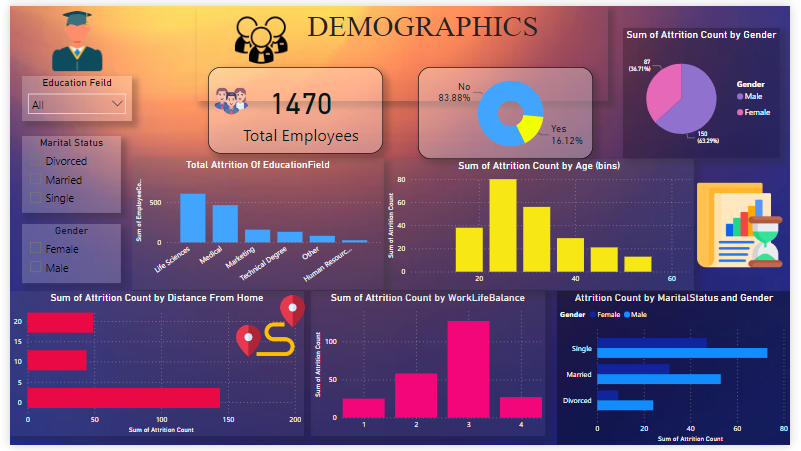

Layout of this report page (visuals, bound fields, positions):
{"tool":"powerbi","page":{"name":"Page 1","canvas":[1280,720],"ordinal":0},"visuals":[{"type":"textbox","box":[306.6,0,673.8,155.7],"z":0},{"type":"card","fields":{"Values":["Sum(HR-Employee-Attrition.EmployeeCount)"]},"box":[324.6,100,287,142],"z":1000},{"type":"image","box":[324.6,123,75.4,65.6],"z":2000},{"type":"image","box":[332.8,4.9,157.4,101.6],"z":3000},{"type":"clusteredColumnChart","title":"Total Attrition Of EducationField","fields":{"Category":["HR-Employee-Attrition.EducationField"],"Y":["Sum(HR-Employee-Attrition.EmployeeCount)"]},"box":[200,249.2,413.1,216.4],"z":4000},{"type":"donutChart","fields":{"Category":["HR-Employee-Attrition.Attrition Count (groups)"],"Y":["Sum(HR-Employee-Attrition.EmployeeCount)"]},"box":[668.9,100,286.9,150.8],"z":5000},{"type":"columnChart","fields":{"Category":["HR-Employee-Attrition.WorkLifeBalance"],"Y":["Sum(HR-Employee-Attrition.Attrition Count)"]},"box":[493.4,467.2,383.6,237.7],"z":6000},{"type":"slicer","title":"Education Feild","fields":{"Values":["HR-Employee-Attrition.EducationField"]},"box":[19.7,114.8,180.3,73.8],"z":7000},{"type":"slicer","title":"Marital Status","fields":{"Values":["HR-Employee-Attrition.MaritalStatus"]},"box":[19.7,213.1,162.3,126.2],"z":8000},{"type":"barChart","fields":{"Category":["HR-Employee-Attrition.Distance From Home"],"Y":["Sum(HR-Employee-Attrition.Attrition Count)"]},"box":[0,467.2,482,237.7],"z":9000},{"type":"pieChart","fields":{"Y":["Sum(HR-Employee-Attrition.Attrition Count)"],"Category":["HR-Employee-Attrition.Gender"]},"box":[1004.9,36.1,257.4,213.1],"z":11000},{"type":"clusteredBarChart","title":"Attrition Count by MaritalStatus and Gender","fields":{"Category":["HR-Employee-Attrition.MaritalStatus","HR-Employee-Attrition.Gender"],"Y":["Sum(HR-Employee-Attrition.Attrition Count)"],"Series":["HR-Employee-Attrition.Gender"]},"box":[896.7,467.2,383.6,252.5],"z":12000},{"type":"columnChart","fields":{"Category":["HR-Employee-Attrition.Age (bins)"],"Y":["Sum(HR-Employee-Attrition.Attrition Count)"]},"box":[613.1,250.8,508.2,214.8],"z":13000},{"type":"slicer","title":"Gender","fields":{"Values":["HR-Employee-Attrition.Gender"]},"box":[19.7,357.4,162.3,96.7],"z":14000},{"type":"image","box":[365.6,436.1,123,177],"z":14001},{"type":"image","box":[9.8,0,200,114.8],"z":14002},{"type":"image","box":[1121,251,150,215],"z":14003}]}

Visuals, with their boxes in screenshot pixels (x1, y1, x2, y2), scaled from the page's 1280x720 canvas onto the 801x451 screenshot:
textbox: locate(192, 0, 614, 98)
card - Sum(HR-Employee-Attrition.EmployeeCount): locate(203, 63, 383, 152)
image: locate(203, 77, 250, 118)
image: locate(208, 3, 307, 67)
"Total Attrition Of EducationField" clusteredColumnChart: locate(125, 156, 384, 292)
donutChart - HR-Employee-Attrition.Attrition Count (groups) x Sum(HR-Employee-Attrition.EmployeeCount): locate(419, 63, 598, 157)
columnChart - HR-Employee-Attrition.WorkLifeBalance x Sum(HR-Employee-Attrition.Attrition Count): locate(309, 293, 549, 442)
"Education Feild" slicer: locate(12, 72, 125, 118)
"Marital Status" slicer: locate(12, 133, 114, 213)
barChart - HR-Employee-Attrition.Distance From Home x Sum(HR-Employee-Attrition.Attrition Count): locate(0, 293, 302, 442)
pieChart - Sum(HR-Employee-Attrition.Attrition Count) x HR-Employee-Attrition.Gender: locate(629, 23, 790, 156)
"Attrition Count by MaritalStatus and Gender" clusteredBarChart: locate(561, 293, 800, 450)
columnChart - HR-Employee-Attrition.Age (bins) x Sum(HR-Employee-Attrition.Attrition Count): locate(384, 157, 702, 292)
"Gender" slicer: locate(12, 224, 114, 284)
image: locate(229, 273, 306, 384)
image: locate(6, 0, 131, 72)
image: locate(702, 157, 795, 292)
